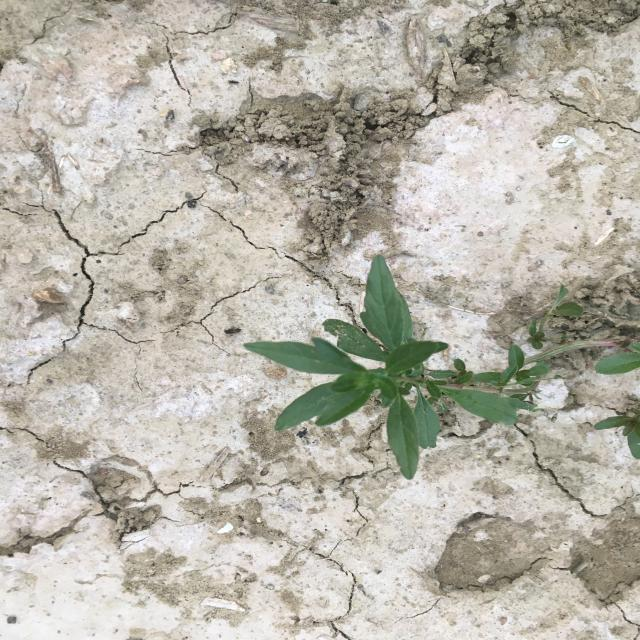Waterhemp: (242, 253, 638, 481)
